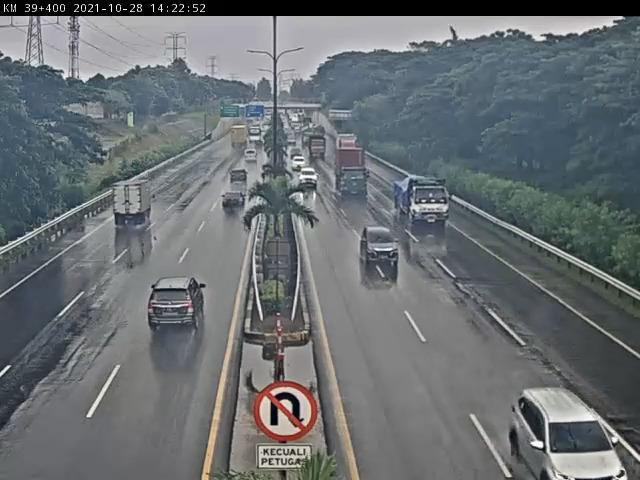truck: (395, 174, 452, 224), (109, 177, 154, 230), (331, 148, 369, 199)
